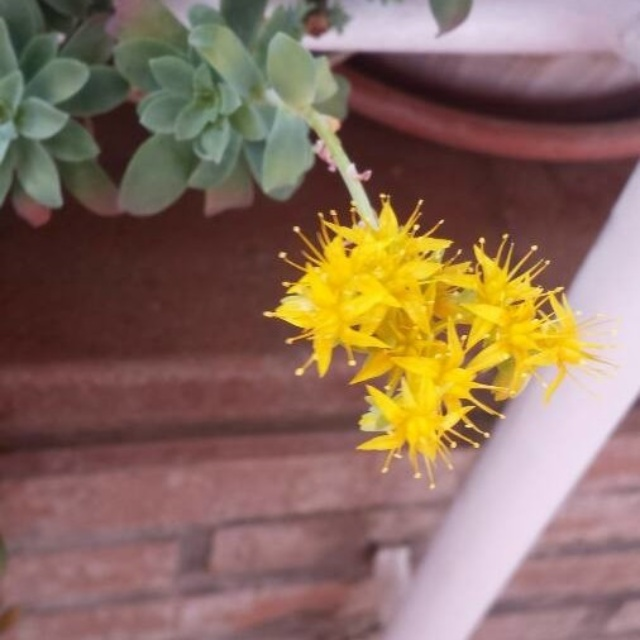obstacle: (110, 27, 610, 484), (14, 8, 145, 215)
